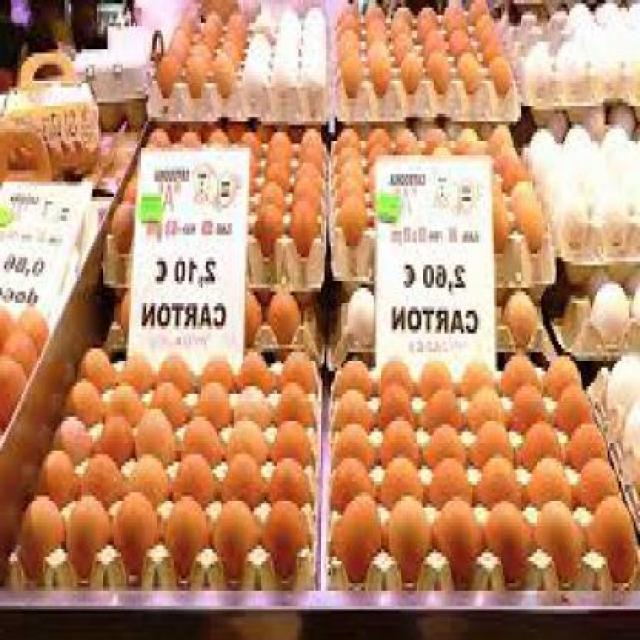BIODEGRADABLE: (588, 484, 638, 582), (332, 484, 385, 576), (433, 488, 485, 572), (116, 484, 162, 576), (264, 492, 314, 572), (21, 490, 67, 576), (537, 500, 586, 580), (486, 492, 534, 572), (68, 492, 114, 572), (166, 492, 212, 572), (216, 496, 262, 576), (392, 492, 432, 576), (272, 450, 318, 508), (532, 450, 578, 508), (78, 447, 124, 504), (481, 447, 527, 504), (39, 443, 79, 508), (134, 406, 180, 462), (174, 450, 217, 508), (514, 178, 548, 250), (224, 447, 270, 499), (472, 417, 518, 469), (132, 450, 172, 508), (432, 458, 478, 508), (466, 386, 512, 436), (382, 455, 426, 507), (541, 348, 584, 401), (332, 417, 378, 466), (333, 455, 376, 507), (608, 348, 638, 422), (594, 276, 632, 333), (152, 374, 195, 424), (504, 288, 542, 344), (578, 455, 618, 507), (56, 409, 95, 462), (430, 417, 472, 466), (2, 348, 30, 421), (502, 345, 541, 397), (67, 371, 105, 424), (185, 409, 223, 462), (336, 382, 376, 432), (230, 413, 270, 462), (381, 413, 421, 462), (524, 413, 564, 462), (556, 382, 595, 432), (234, 378, 272, 428), (380, 382, 418, 432), (428, 386, 466, 436), (97, 412, 137, 458), (198, 379, 232, 432), (569, 420, 608, 466), (564, 118, 596, 174), (337, 348, 374, 394), (240, 344, 274, 394), (271, 288, 303, 341), (18, 303, 52, 352), (4, 322, 38, 371), (546, 348, 582, 394), (348, 284, 375, 345), (82, 341, 115, 390), (289, 197, 320, 249), (341, 190, 374, 238), (277, 417, 315, 458), (107, 378, 144, 420), (515, 378, 548, 424), (258, 197, 288, 246), (380, 352, 418, 390), (122, 348, 156, 390), (282, 349, 320, 386), (556, 174, 593, 212), (597, 171, 631, 212), (494, 140, 524, 186), (213, 46, 241, 94), (532, 124, 558, 174), (185, 46, 212, 94), (162, 348, 200, 382), (270, 42, 301, 83), (204, 356, 238, 393), (282, 379, 316, 416), (421, 360, 453, 397), (159, 50, 183, 96), (244, 49, 270, 91), (345, 46, 367, 94), (429, 45, 454, 87), (372, 38, 393, 87), (556, 34, 590, 64), (464, 359, 496, 390), (302, 46, 328, 83), (490, 54, 516, 91), (478, 27, 504, 64), (266, 152, 294, 186), (115, 197, 133, 249), (170, 23, 192, 65), (591, 27, 618, 61), (305, 4, 329, 42), (268, 126, 294, 160), (298, 156, 324, 190), (301, 126, 327, 160), (528, 34, 554, 68), (248, 288, 266, 337), (404, 45, 425, 87), (249, 0, 282, 26), (459, 49, 484, 83), (586, 260, 612, 292), (425, 16, 449, 50), (296, 170, 322, 201), (240, 120, 265, 152), (605, 120, 630, 152), (260, 178, 286, 208), (487, 120, 511, 152), (626, 392, 639, 450), (428, 121, 455, 148), (417, 0, 438, 34), (630, 120, 638, 209), (226, 23, 245, 60), (395, 23, 414, 60), (451, 22, 472, 53), (369, 136, 394, 162), (339, 174, 367, 197), (335, 140, 363, 163), (337, 117, 365, 140), (496, 201, 509, 250), (397, 124, 423, 148), (337, 4, 361, 30), (571, 0, 595, 26), (250, 30, 276, 53), (277, 0, 303, 23), (597, 0, 623, 23), (183, 3, 202, 34), (369, 121, 394, 144), (340, 152, 366, 174), (621, 26, 639, 57), (468, 0, 492, 23), (2, 303, 15, 345), (198, 23, 219, 49), (477, 12, 498, 38), (275, 23, 303, 42), (228, 4, 249, 27), (206, 122, 232, 140), (208, 0, 226, 26), (342, 27, 360, 53), (447, 0, 465, 26), (462, 124, 481, 148), (120, 288, 131, 329), (370, 12, 388, 34), (127, 167, 138, 201), (630, 264, 638, 310), (393, 8, 412, 26), (153, 125, 172, 140), (182, 125, 200, 140), (594, 133, 606, 152), (495, 175, 507, 193), (630, 0, 638, 25), (253, 148, 262, 166), (252, 171, 258, 189)
